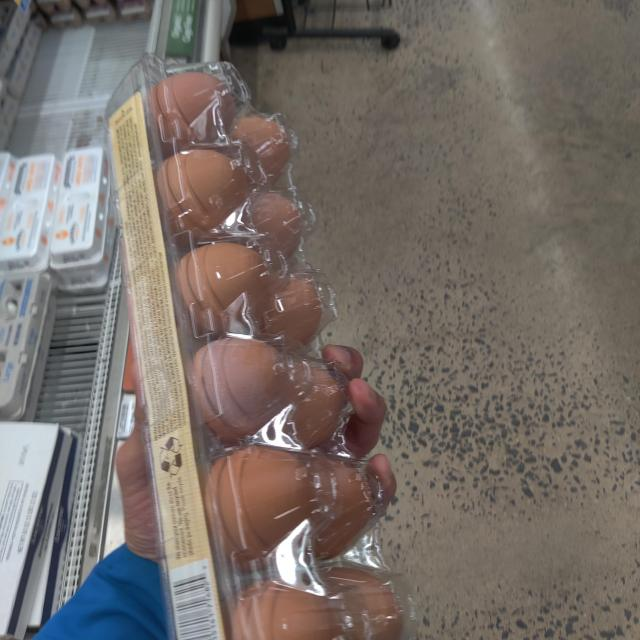Eggs: (108, 55, 410, 640), (0, 152, 62, 274), (51, 146, 109, 270)
